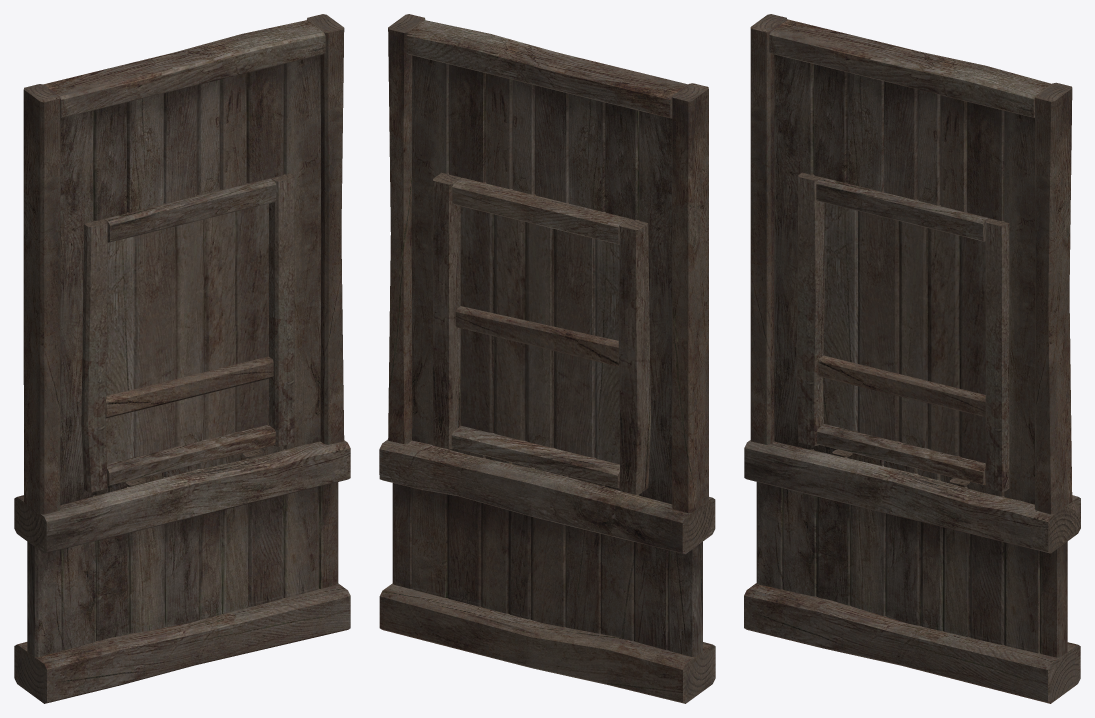
File: WoodWall_4.fbx
The picture shows the model from 3 angles, left to right: view 1: azimuth 30°, elevation 25°; view 2: azimuth 150°, elevation 25°; view 3: azimuth 330°, elevation 25°; orthographic projection.
Parts seen in each view (by area): view 1: 3D_WoodWall4.mo; view 2: 3D_WoodWall4.mo; view 3: 3D_WoodWall4.mo.
Part boxes in pixels (box(x1,y1,x2,y2)): 3D_WoodWall4.mo: box(14, 14, 350, 703); 3D_WoodWall4.mo: box(379, 14, 715, 703); 3D_WoodWall4.mo: box(744, 14, 1080, 703).
Bounding box in the file's own units: 225 × 426 × 45.67.
Materials: 1 (1 with a texture image).
